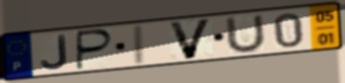0: (271, 12, 306, 50)
I: (131, 23, 147, 67)
J: (39, 33, 70, 71)
P: (75, 27, 116, 72)
U: (224, 12, 268, 56)
V: (166, 17, 215, 62)
